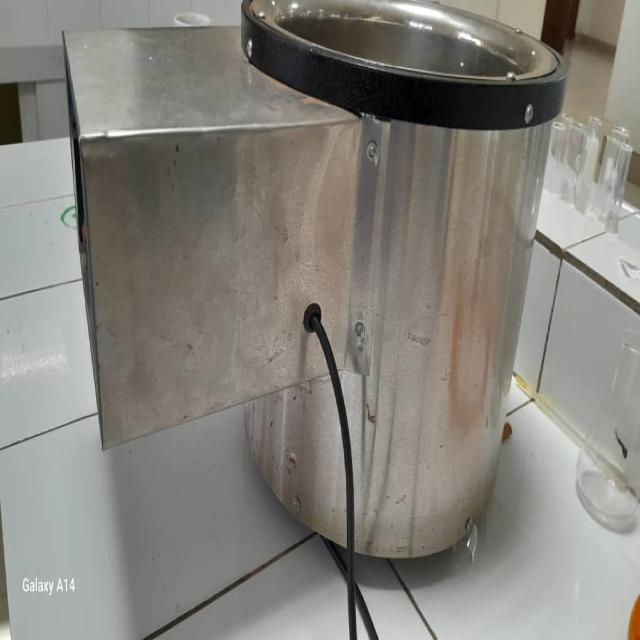Water-Oil Bath: (60, 14, 569, 570)
